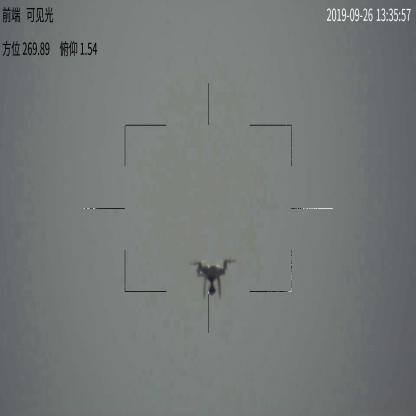uav: (189, 256, 234, 298)
